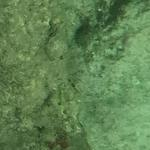dead: (6, 8, 147, 147)
